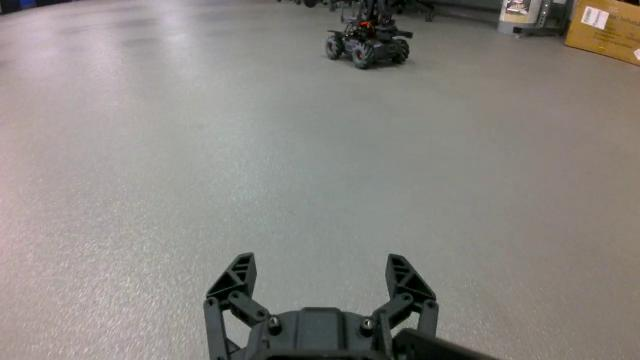robot: (324, 0, 413, 69)
